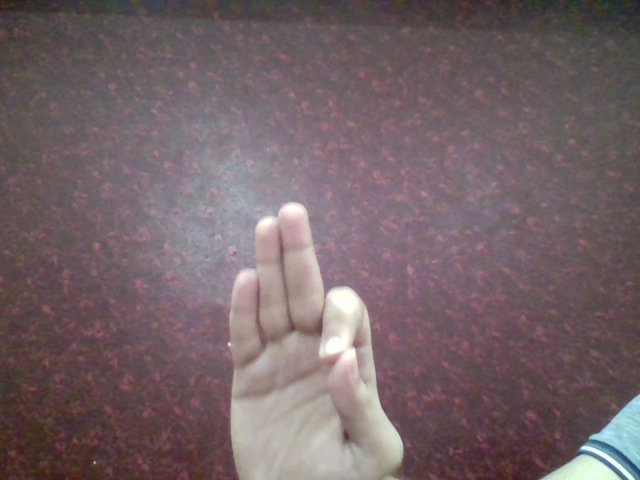f: (208, 193, 410, 480)
